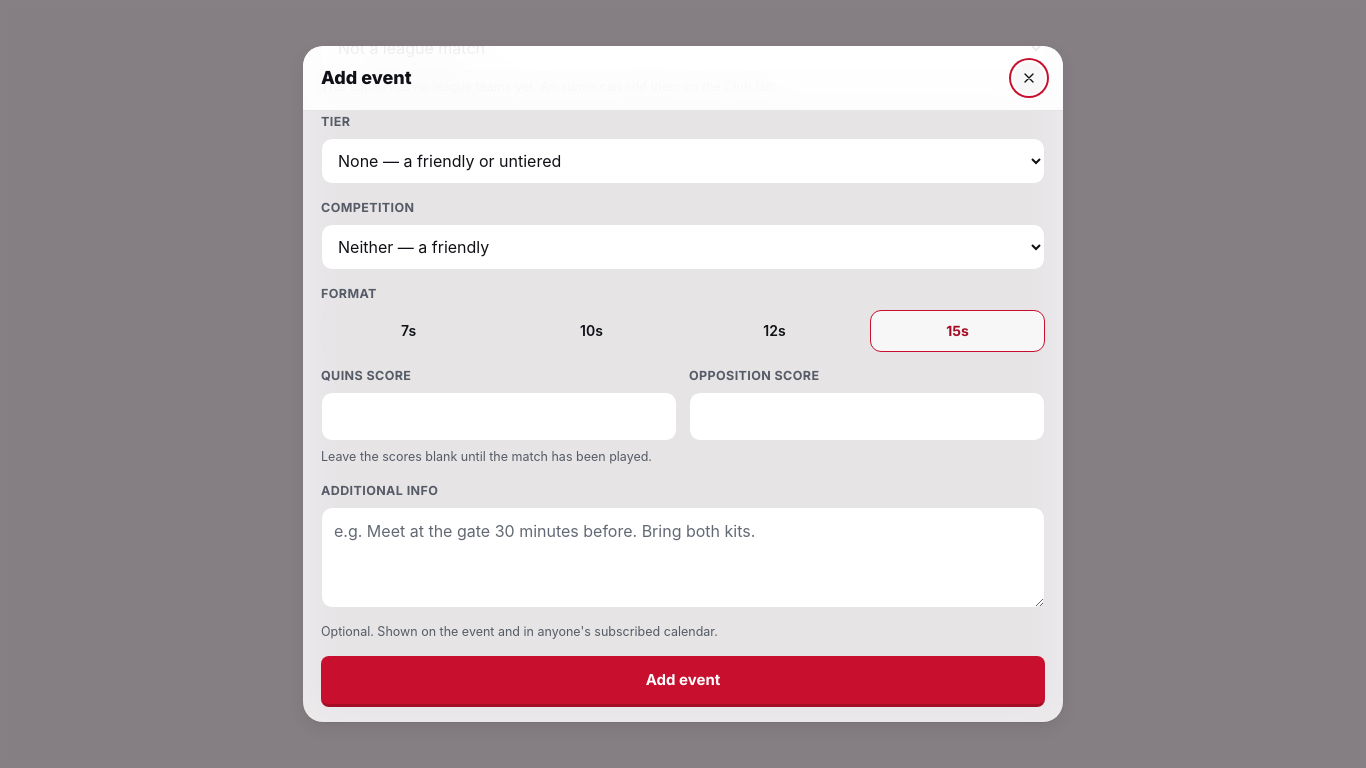
Scenario: EventForm — a refused submit lands on the first invalid field › moves focus to the first highlighted control, not the banner
(page scrolled)
A match with no opponent: opponent is required for a friendly.
Click the button "Add event": {"x": 683, "y": 681} [321,656,1045,706]
(page scrolled)
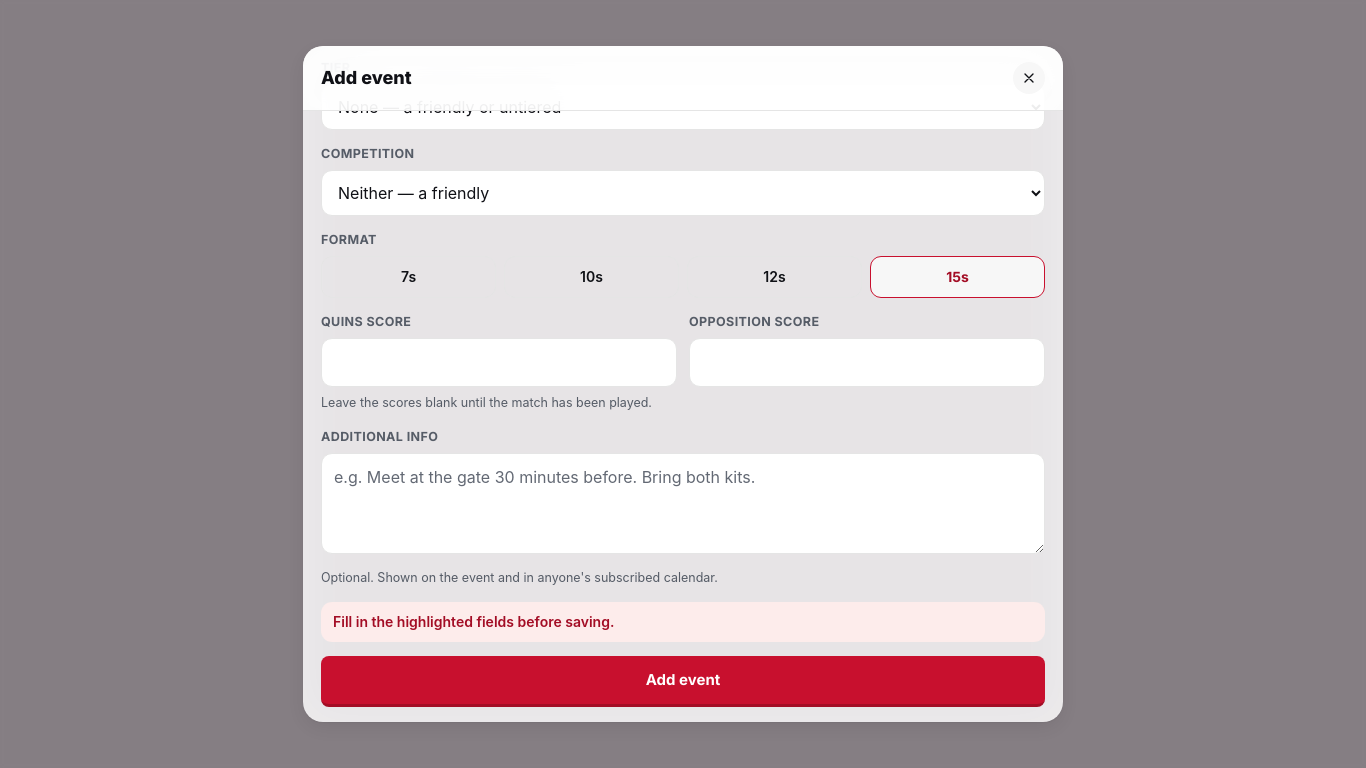
Expected: the message "Fill in the highlighted fields before saving." is shown, [321,602,1045,642]
